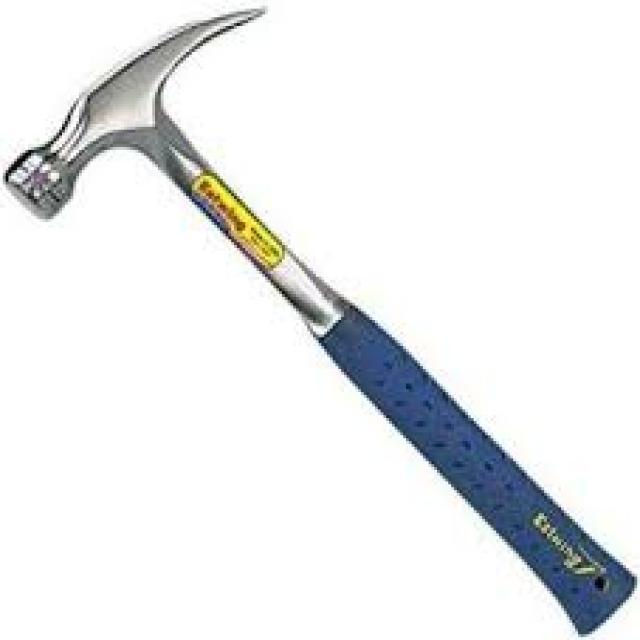Palu: (3, 3, 638, 638)
